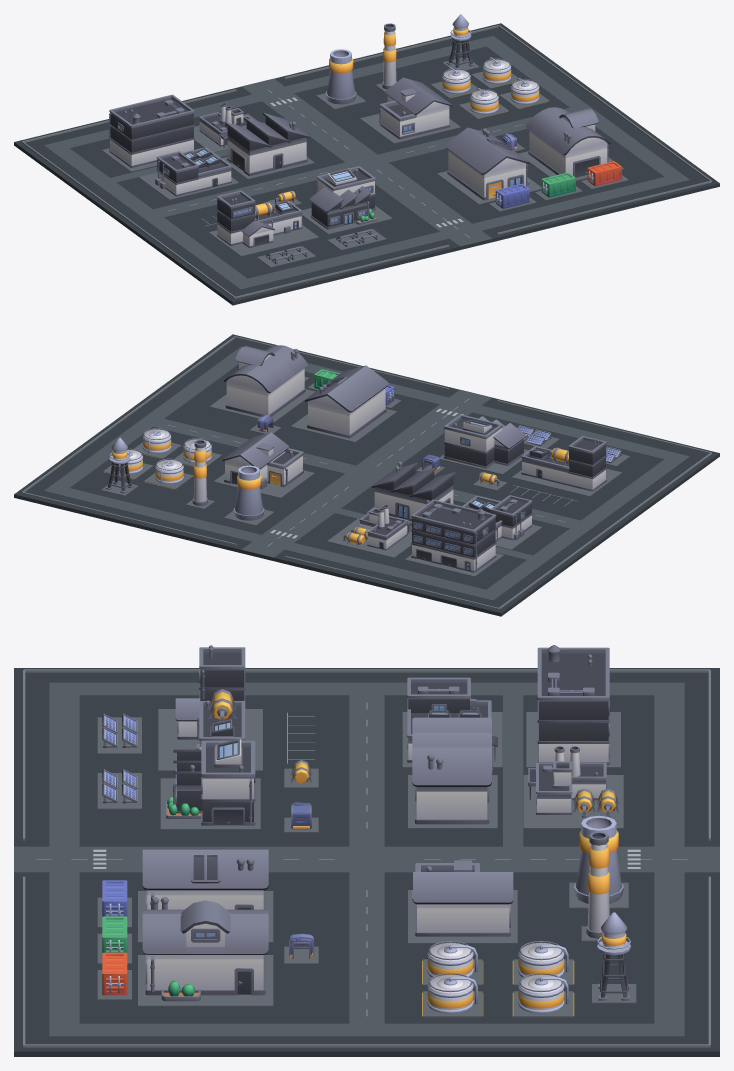
The model's file is factory_large.glb.
3 views of the same model, one above another, from view 1: azimuth 30°, elevation 25°; view 2: azimuth 150°, elevation 25°; view 3: azimuth 270°, elevation 25° (orthographic). The views are drawn at different scales.
Parts seen in each view (by area): view 1: GROUND, ROADS, FACILITY_PADS, BUILDING_01, WAREHOUSE_02, WAREHOUSE_01, BUILDING_04, BUILDING_05, BOUNDARY, BUILDING_06, WAREHOUSE_03, BUILDING_03 (+11 smaller); view 2: GROUND, ROADS, FACILITY_PADS, BUILDING_01, WAREHOUSE_02, WAREHOUSE_01, BOUNDARY, BUILDING_06, BUILDING_05, BUILDING_04, WAREHOUSE_03, BUILDING_03 (+6 smaller); view 3: GROUND, ROADS, FACILITY_PADS, WAREHOUSE_02, BUILDING_04, BUILDING_01, WAREHOUSE_01, BOUNDARY, WAREHOUSE_03, BUILDING_06, BUILDING_05, BUILDING_02 (+14 smaller).
Part boxes in pixels (<box>): GROUND: <box>14,23,719,305</box>; ROADS: <box>44,36,689,289</box>; FACILITY_PADS: <box>101,57,628,267</box>; BUILDING_01: <box>109,94,194,167</box>; WAREHOUSE_02: <box>526,107,610,177</box>; WAREHOUSE_01: <box>445,127,529,200</box>; BUILDING_04: <box>225,113,309,175</box>; BUILDING_05: <box>217,190,302,247</box>; BOUNDARY: <box>22,25,711,298</box>; BUILDING_06: <box>309,166,377,229</box>; WAREHOUSE_03: <box>379,77,451,139</box>; BUILDING_03: <box>155,147,231,196</box>; GROUND: <box>14,334,719,616</box>; ROADS: <box>44,347,689,600</box>; FACILITY_PADS: <box>101,377,630,576</box>; BUILDING_01: <box>411,499,496,572</box>; WAREHOUSE_02: <box>223,345,307,416</box>; WAREHOUSE_01: <box>304,365,388,438</box>; BOUNDARY: <box>22,336,711,609</box>; BUILDING_06: <box>443,414,526,468</box>; BUILDING_05: <box>521,436,606,491</box>; BUILDING_04: <box>371,461,456,521</box>; WAREHOUSE_03: <box>222,432,303,488</box>; BUILDING_03: <box>462,495,532,541</box>; GROUND: <box>14,668,719,1056</box>; ROADS: <box>14,682,719,1036</box>; FACILITY_PADS: <box>97,709,636,1017</box>; WAREHOUSE_02: <box>142,897,268,1001</box>; BUILDING_04: <box>412,717,492,824</box>; BUILDING_01: <box>537,645,609,765</box>; WAREHOUSE_01: <box>142,849,268,909</box>; BOUNDARY: <box>23,669,710,1047</box>; WAREHOUSE_03: <box>412,860,513,936</box>; BUILDING_06: <box>166,739,255,825</box>; BUILDING_05: <box>175,645,245,749</box>; BUILDING_02: <box>528,746,618,817</box>.
Bounding box in the file's own units: 180 × 22.75 × 140.
Materials: 42 (36 with a texture image).
